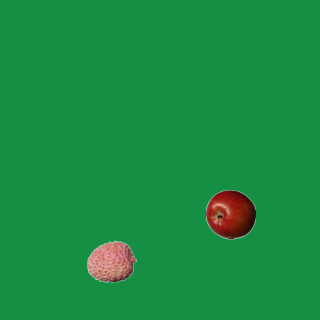Apple Braeburn: (205, 189, 255, 239)
Lychee: (86, 236, 136, 286)
